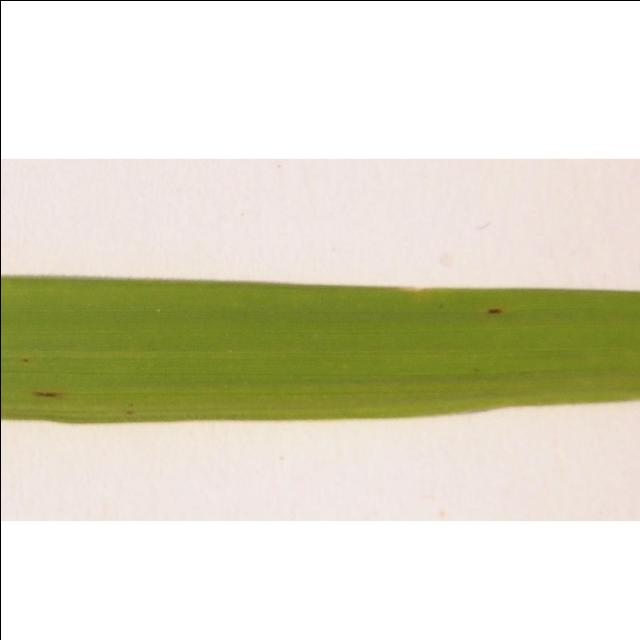Brown spot: (22, 376, 73, 411), (476, 296, 516, 326), (4, 346, 42, 374), (100, 403, 150, 419)
